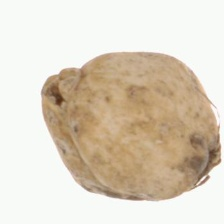L1: (41, 58, 87, 104), (204, 129, 221, 185)
L2: (42, 52, 220, 200)
